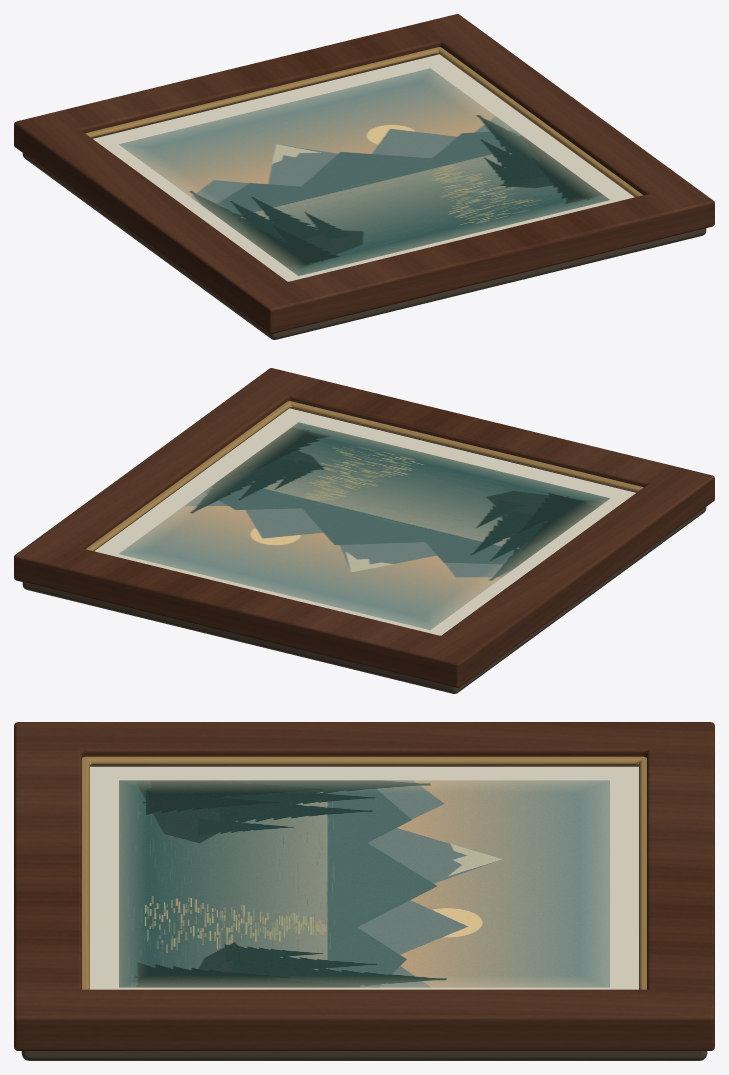
File: SM_Collectible_PhotoFrame.glb
3 views of the same model, one above another, from view 1: azimuth 30°, elevation 25°; view 2: azimuth 150°, elevation 25°; view 3: azimuth 270°, elevation 25° (orthographic). The views are drawn at different scales.
Parts seen in each view (by area): view 1: SM_Collectible_PhotoFrame; view 2: SM_Collectible_PhotoFrame; view 3: SM_Collectible_PhotoFrame.
Part boxes in pixels (x1=…): SM_Collectible_PhotoFrame: x1=14, y1=14, x2=714, y2=339; SM_Collectible_PhotoFrame: x1=14, y1=368, x2=714, y2=693; SM_Collectible_PhotoFrame: x1=14, y1=722, x2=714, y2=1060.
Size of the model in its own units: 0.18 by 0.0142 by 0.18.
5 materials, 2 textured.
